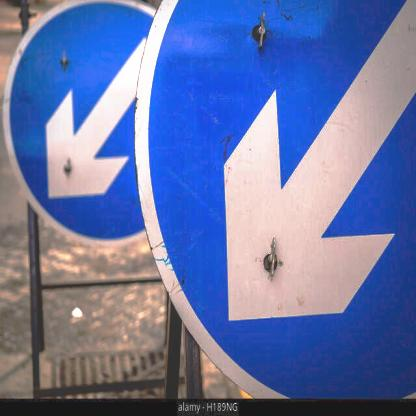Keep left: (139, 0, 416, 353), (7, 0, 163, 245)
